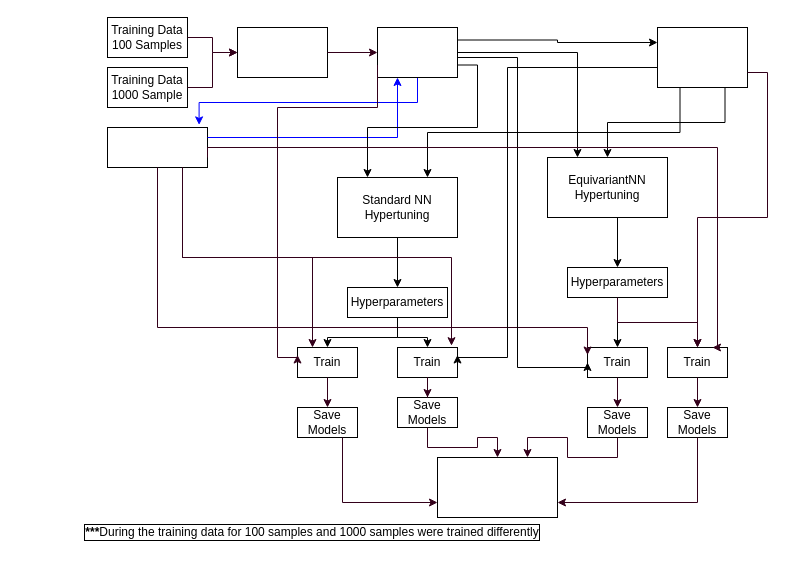
The diagram is 793 pixels wide and 565 high, and some of its shapes have lost their labels. The shapes that lost their labels are listed below. From the top down, each one's centre as x and y in pixels, then its label:
At [282,52]: "Standardization".
At [417,52]: "Normalizer".
At [702,57]: "Augmentation".
At [157,147]: "Validation Data".
At [497,487]: "Load the Models and Evaluate".
